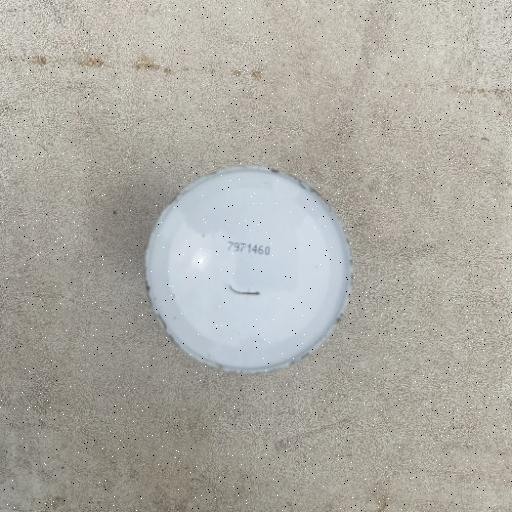Metal: (142, 164, 354, 375)
